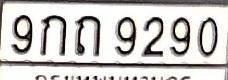0: (197, 16, 218, 56)
2: (141, 16, 165, 57)
9: (11, 13, 34, 55), (114, 15, 137, 57), (169, 16, 190, 56)
A01: (39, 13, 68, 57)
A22: (74, 14, 102, 56)
